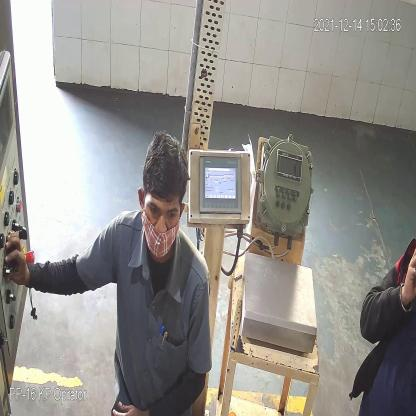no_goggles: (146, 197, 181, 225)
